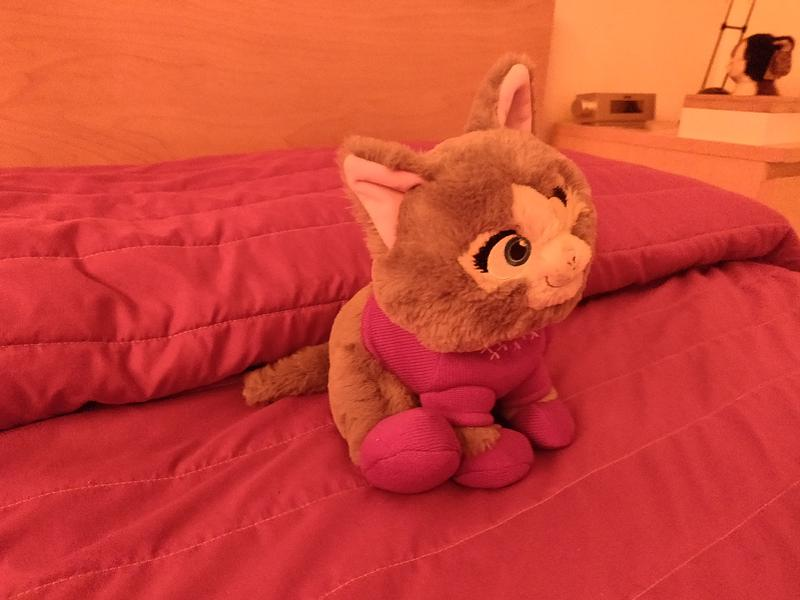kitten: (238, 52, 598, 499)
